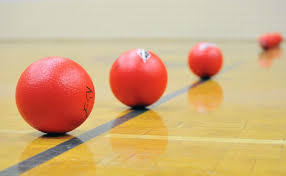red ball: (15, 55, 96, 135), (106, 49, 169, 108), (187, 43, 223, 78)
